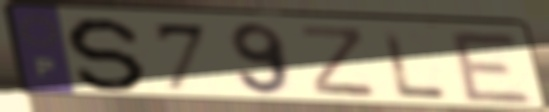7: (147, 21, 215, 92)
9: (224, 20, 294, 99)
E: (444, 28, 539, 107)
L: (378, 27, 452, 101)
S: (62, 15, 151, 94)
Z: (298, 24, 380, 101)
